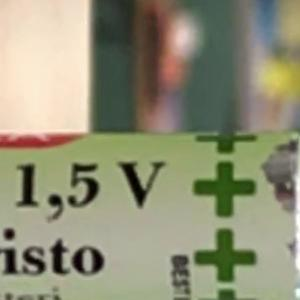1,5V: (6, 152, 171, 217)
